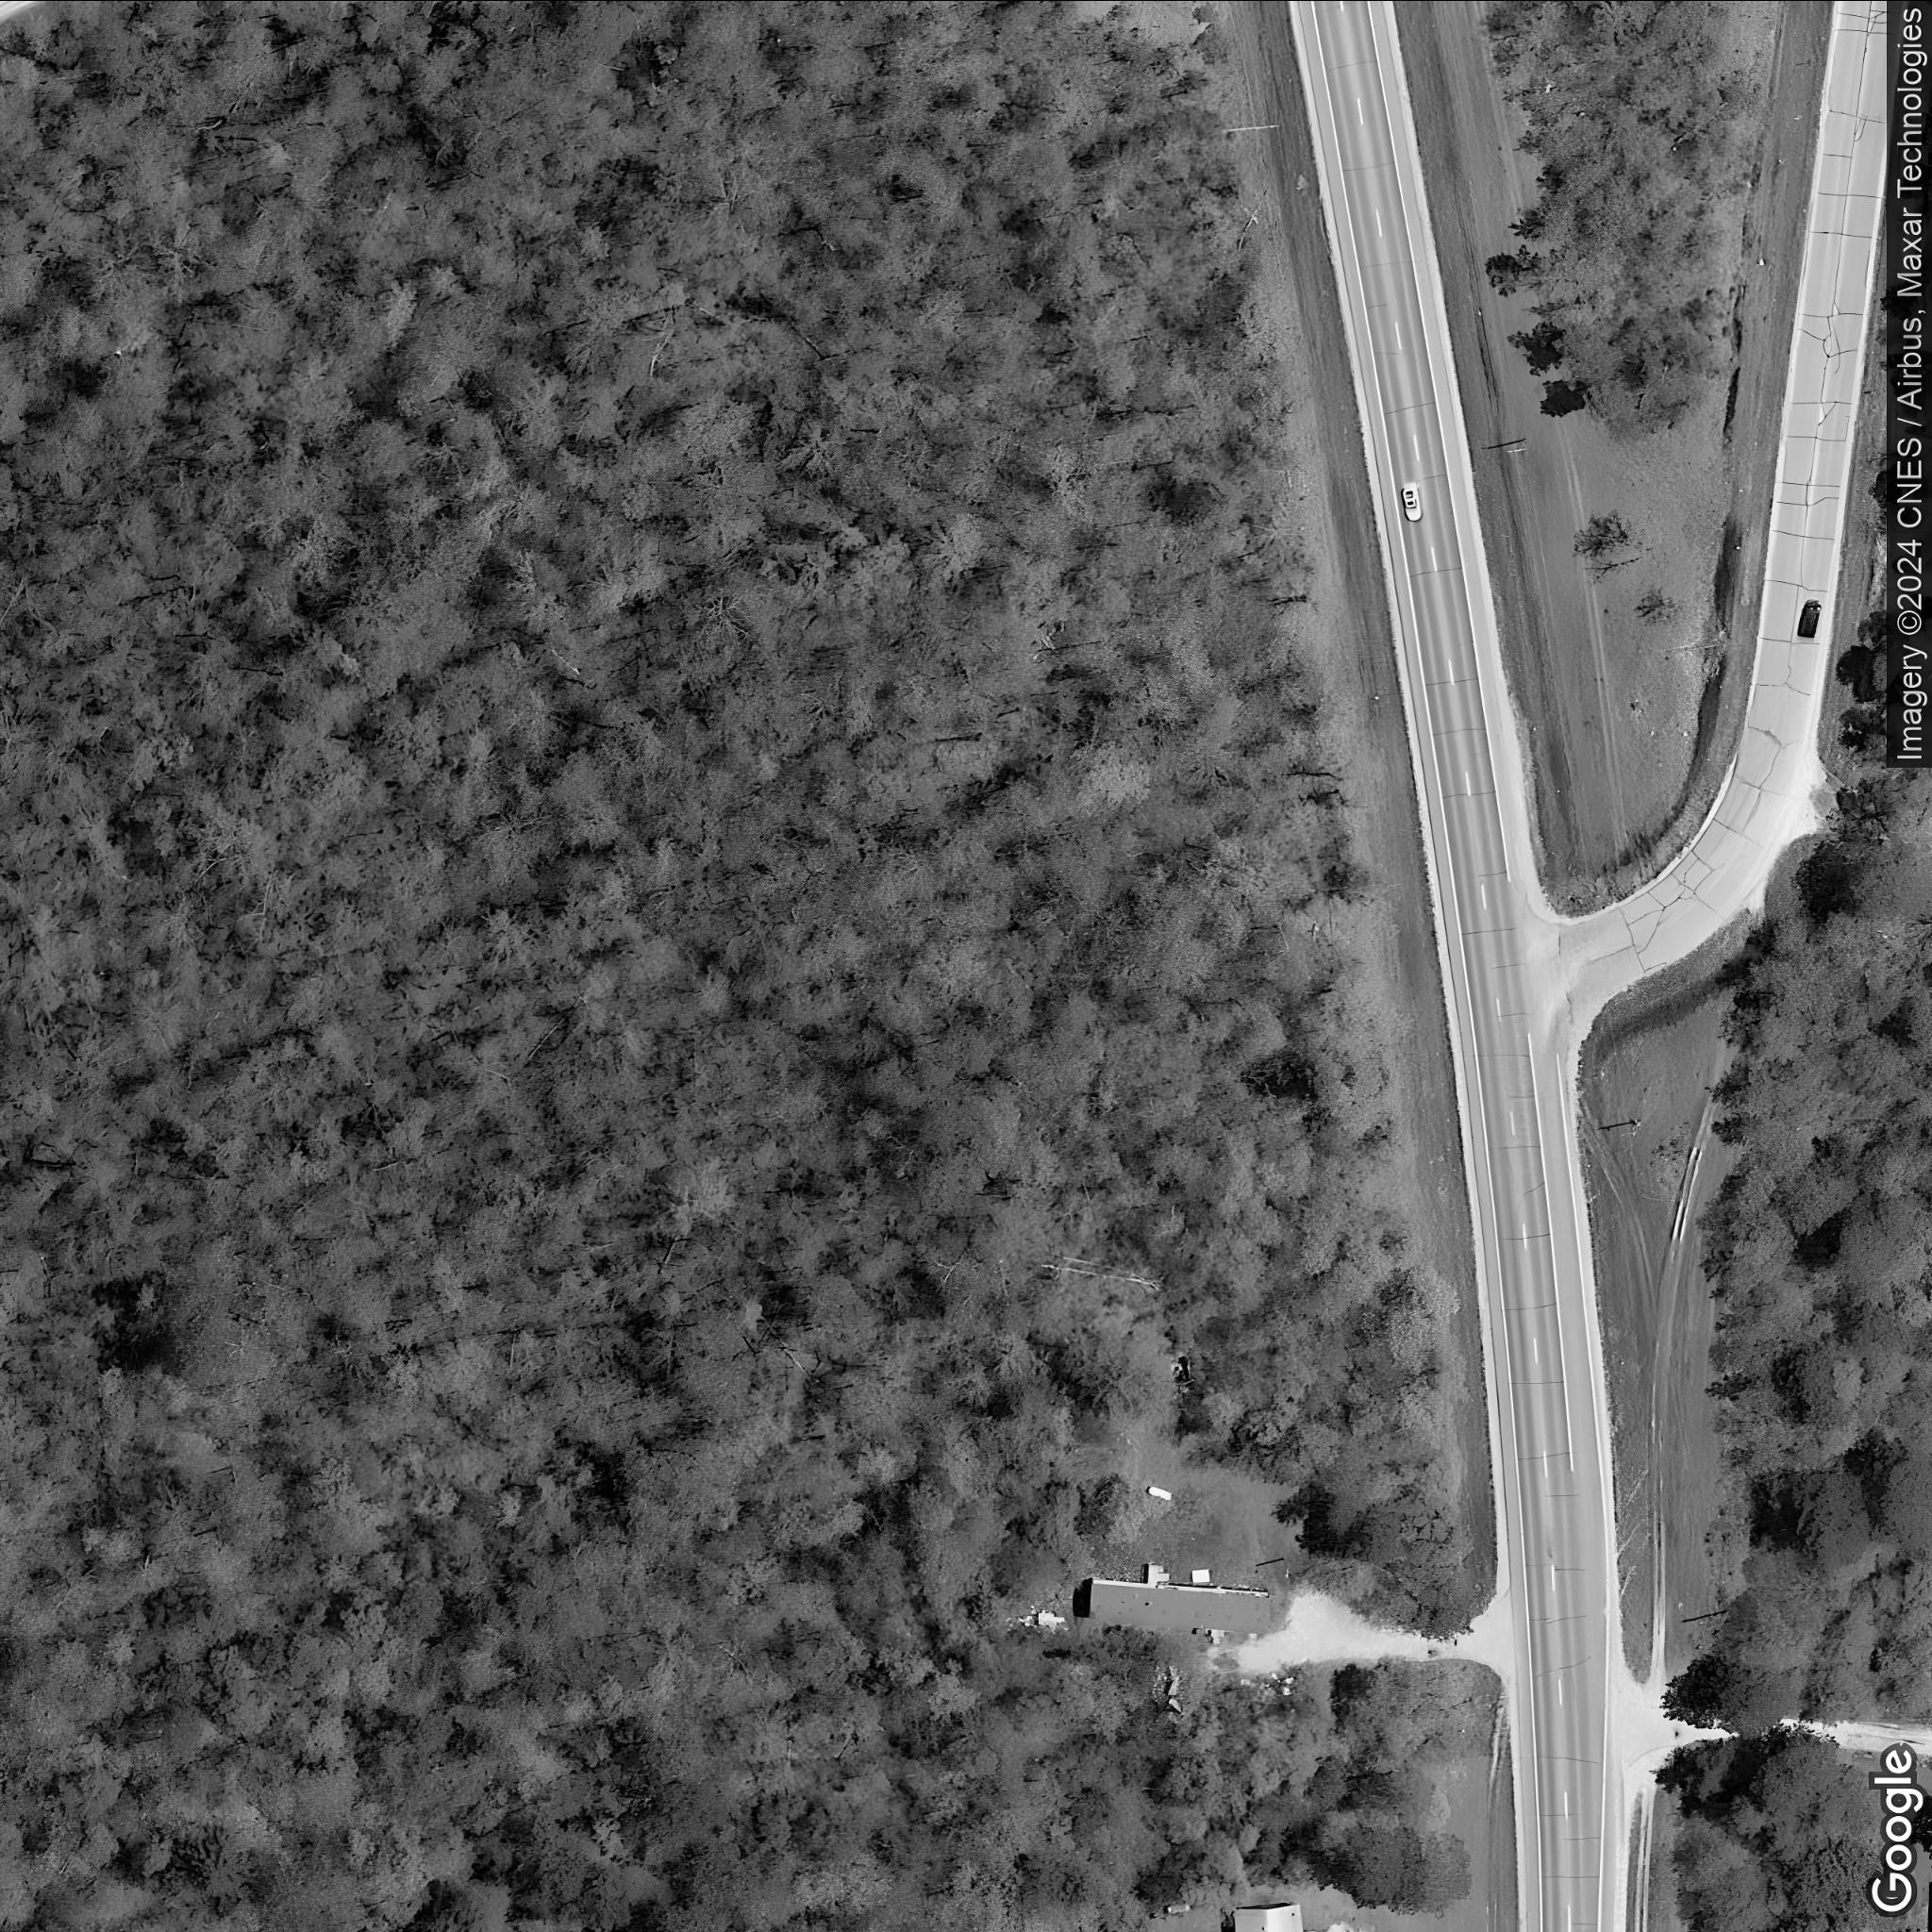House: (1233, 1900, 1307, 1932)
Propane: (1139, 1479, 1177, 1504), (1161, 1900, 1196, 1914)
Trailer: (1086, 1575, 1270, 1635)
